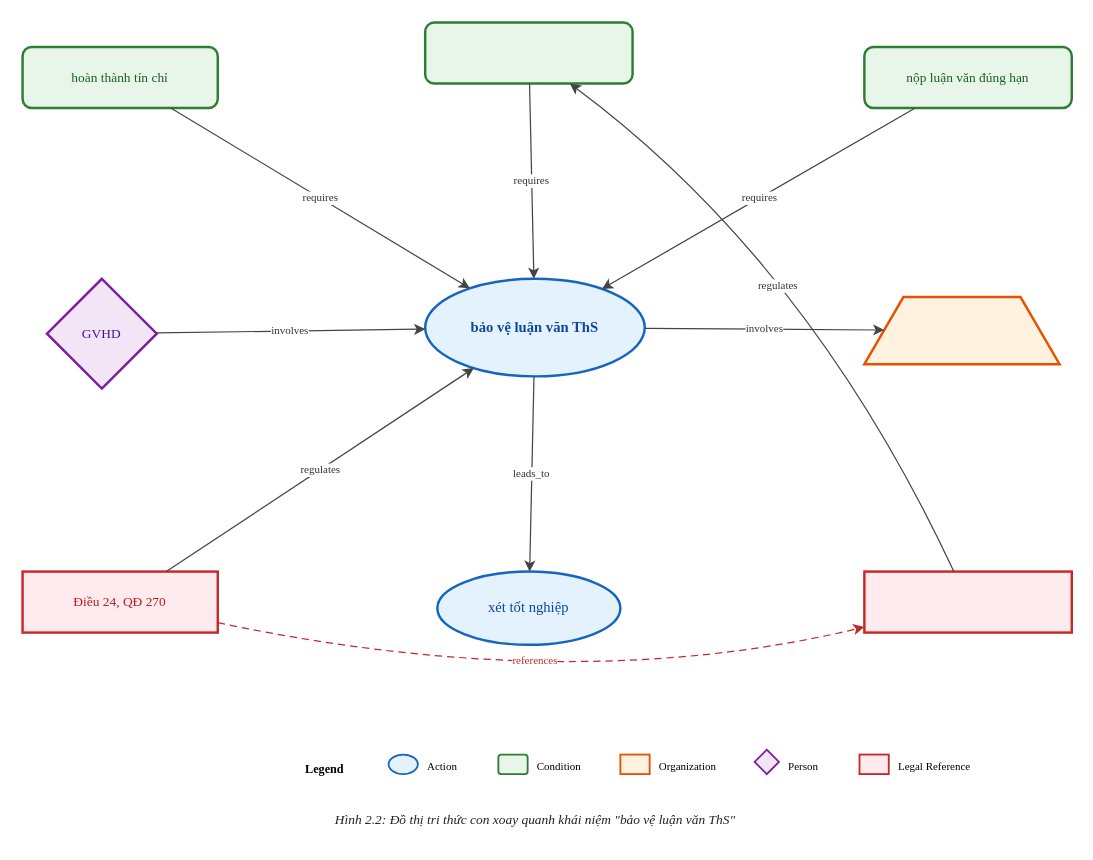
Some shapes in this 1093 by 860 pixel diagram are drawn without their labels. The centre of each missing label's shape, as x and y in pixels:
"Hội đồng bảo vệ" goes at point (961, 330).
"Điều 25, QĐ 1393" goes at point (967, 601).
"đạt chuẩn ngoại ngữ" goes at point (528, 52).
